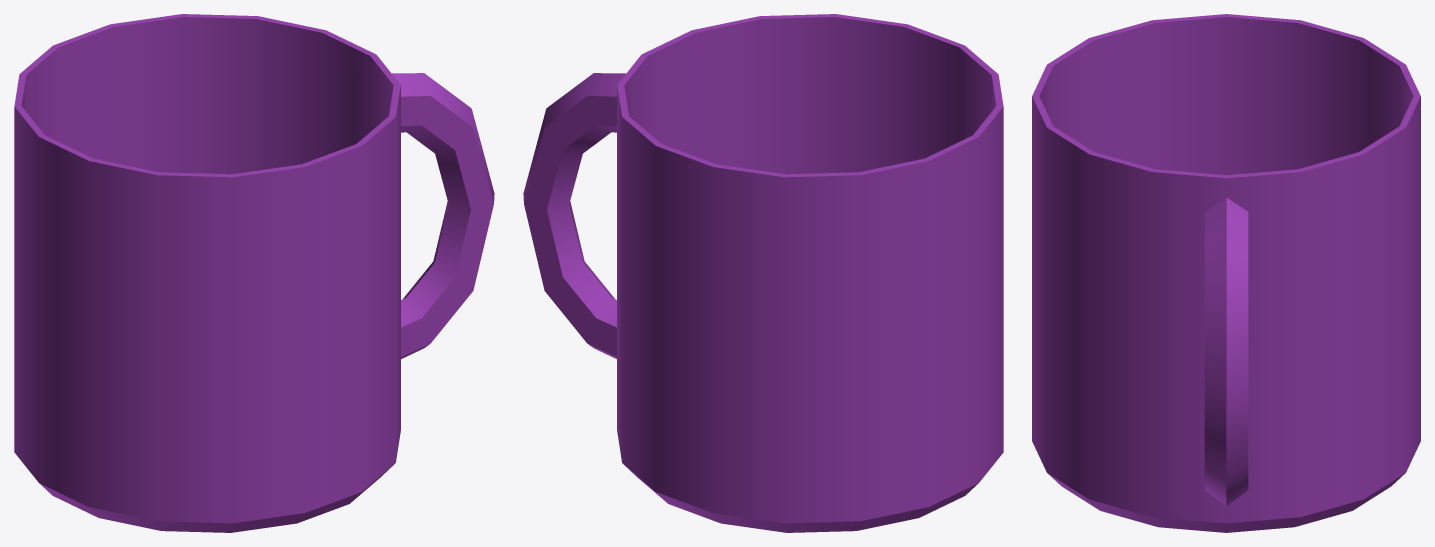
Rendered from Taza12.fbx.
3 renders of one model, left to right at view 1: azimuth 30°, elevation 25°; view 2: azimuth 150°, elevation 25°; view 3: azimuth 270°, elevation 25°, orthographic.
Visible parts, largest first — view 1: Taza12; view 2: Taza12; view 3: Taza12.
Boxes of the visible parts, x1=… form: Taza12: x1=14, y1=14, x2=494, y2=532; Taza12: x1=523, y1=14, x2=1003, y2=532; Taza12: x1=1032, y1=14, x2=1420, y2=532.
Bounding box in the file's own units: 10.46 × 7.95 × 7.75.
